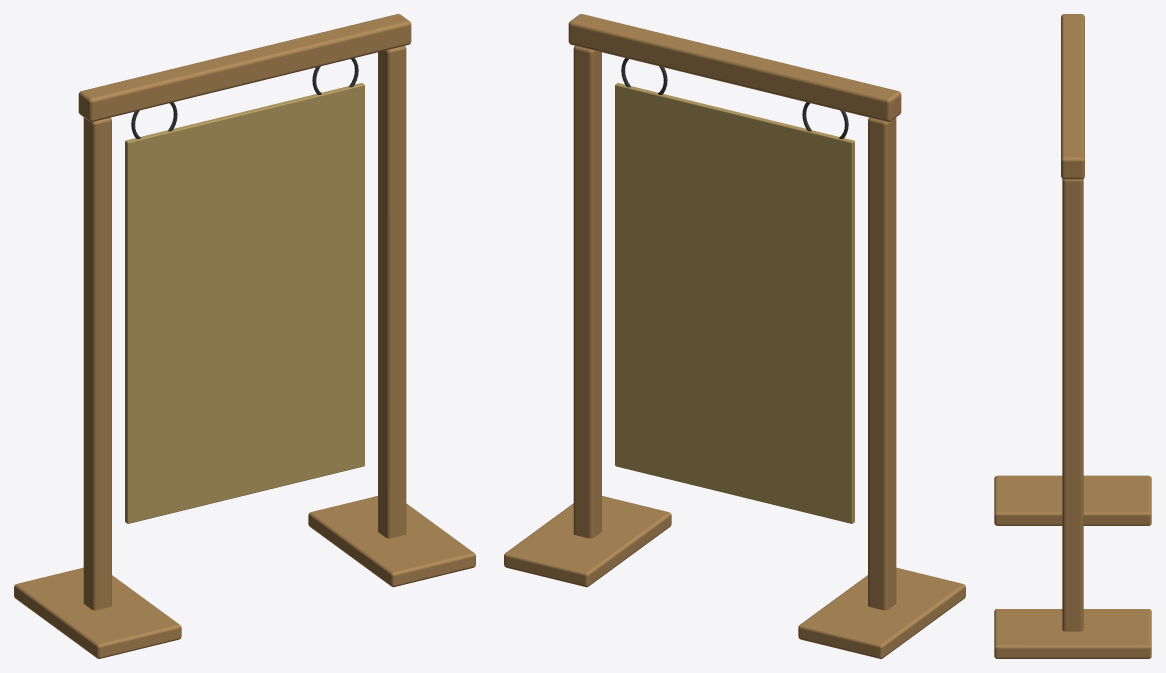
The model's file is abandoned-puppet-theatre-and-prop-vault-thunder-sheet--6c8da486__31072.glb.
The picture shows the model from 3 angles, left to right: view 1: azimuth 30°, elevation 25°; view 2: azimuth 150°, elevation 25°; view 3: azimuth 270°, elevation 25°; orthographic projection. The views are drawn at different scales.
Visible parts, largest first — view 1: thunder-sheet-frame; view 2: thunder-sheet-frame; view 3: thunder-sheet-frame.
Part boxes in pixels (box(x1,y1,x2,y2)): thunder-sheet-frame: box(14, 14, 475, 658); thunder-sheet-frame: box(504, 14, 965, 658); thunder-sheet-frame: box(994, 14, 1151, 658).
Bounding box in the file's own units: 1.34 × 1.78 × 0.52.
